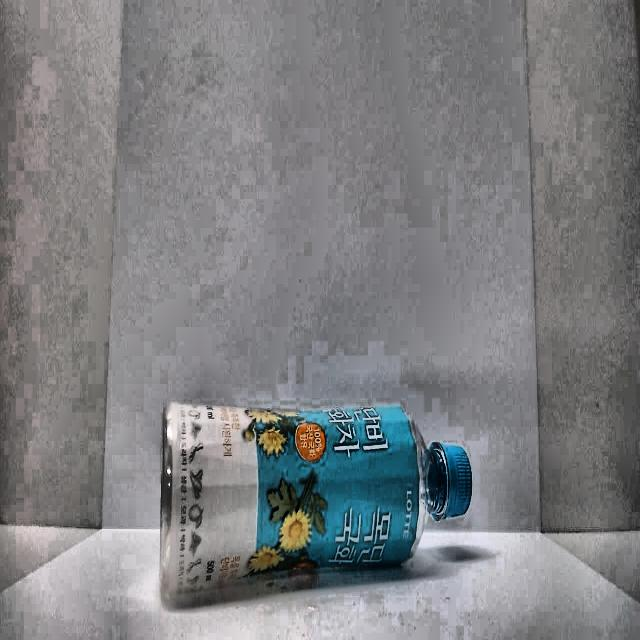Bottles: (145, 376, 482, 621)
